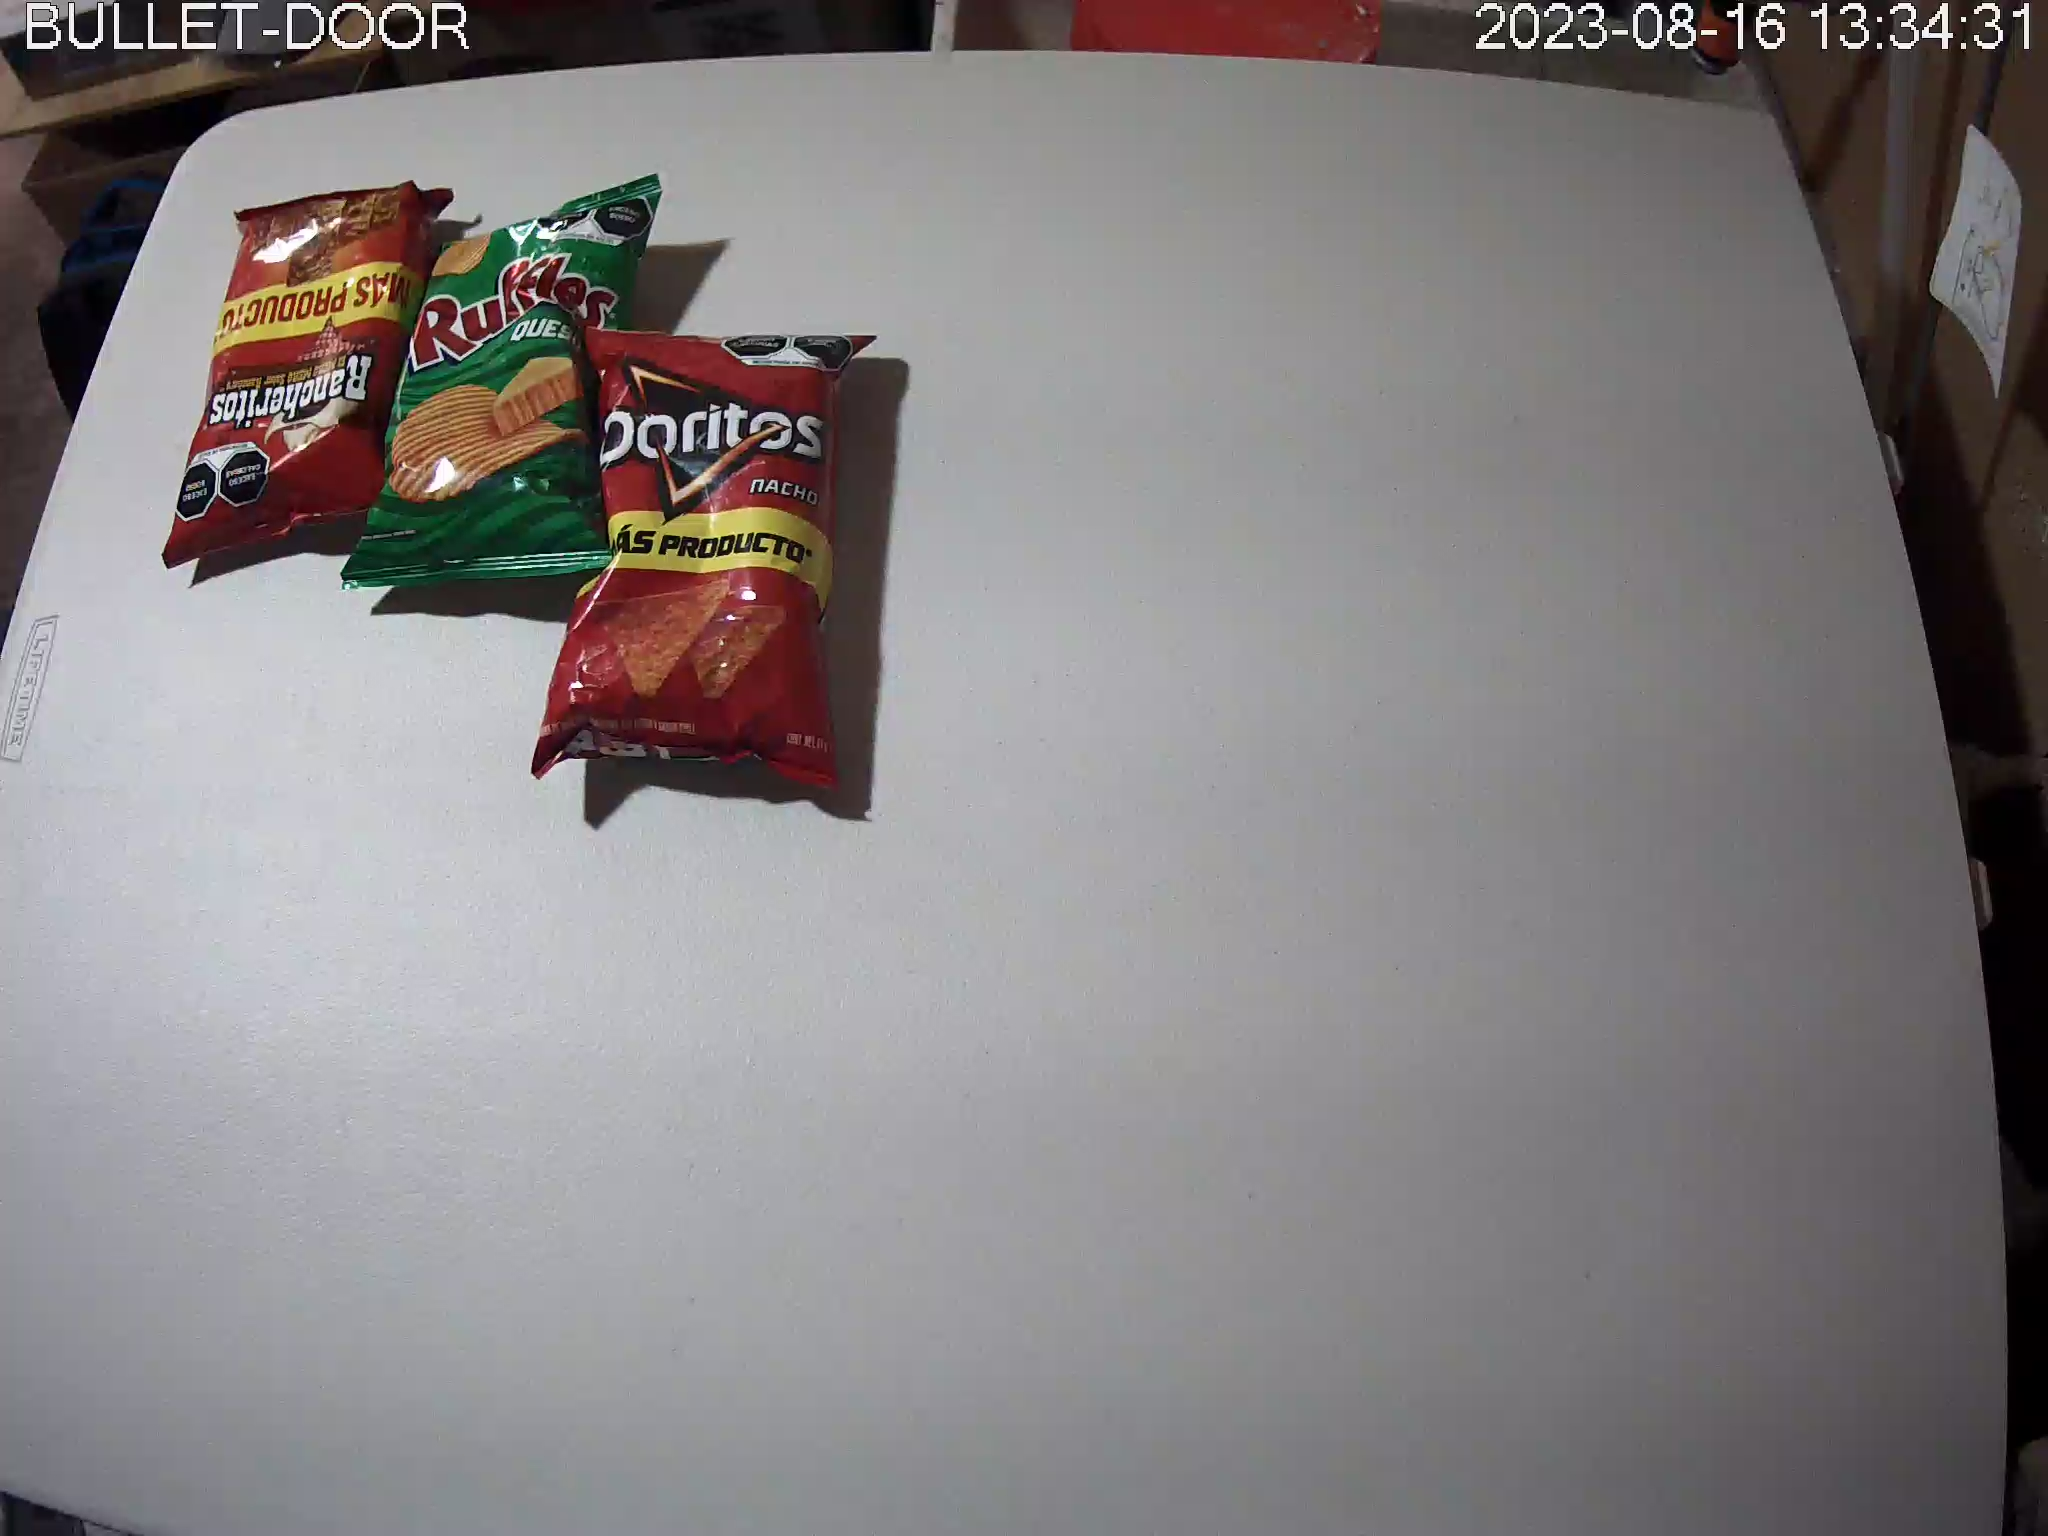DoritosN_61_F: (531, 316, 880, 795)
Rancheritos_58_F: (161, 181, 456, 571)
RufflesQ_48_F: (339, 171, 664, 587)
